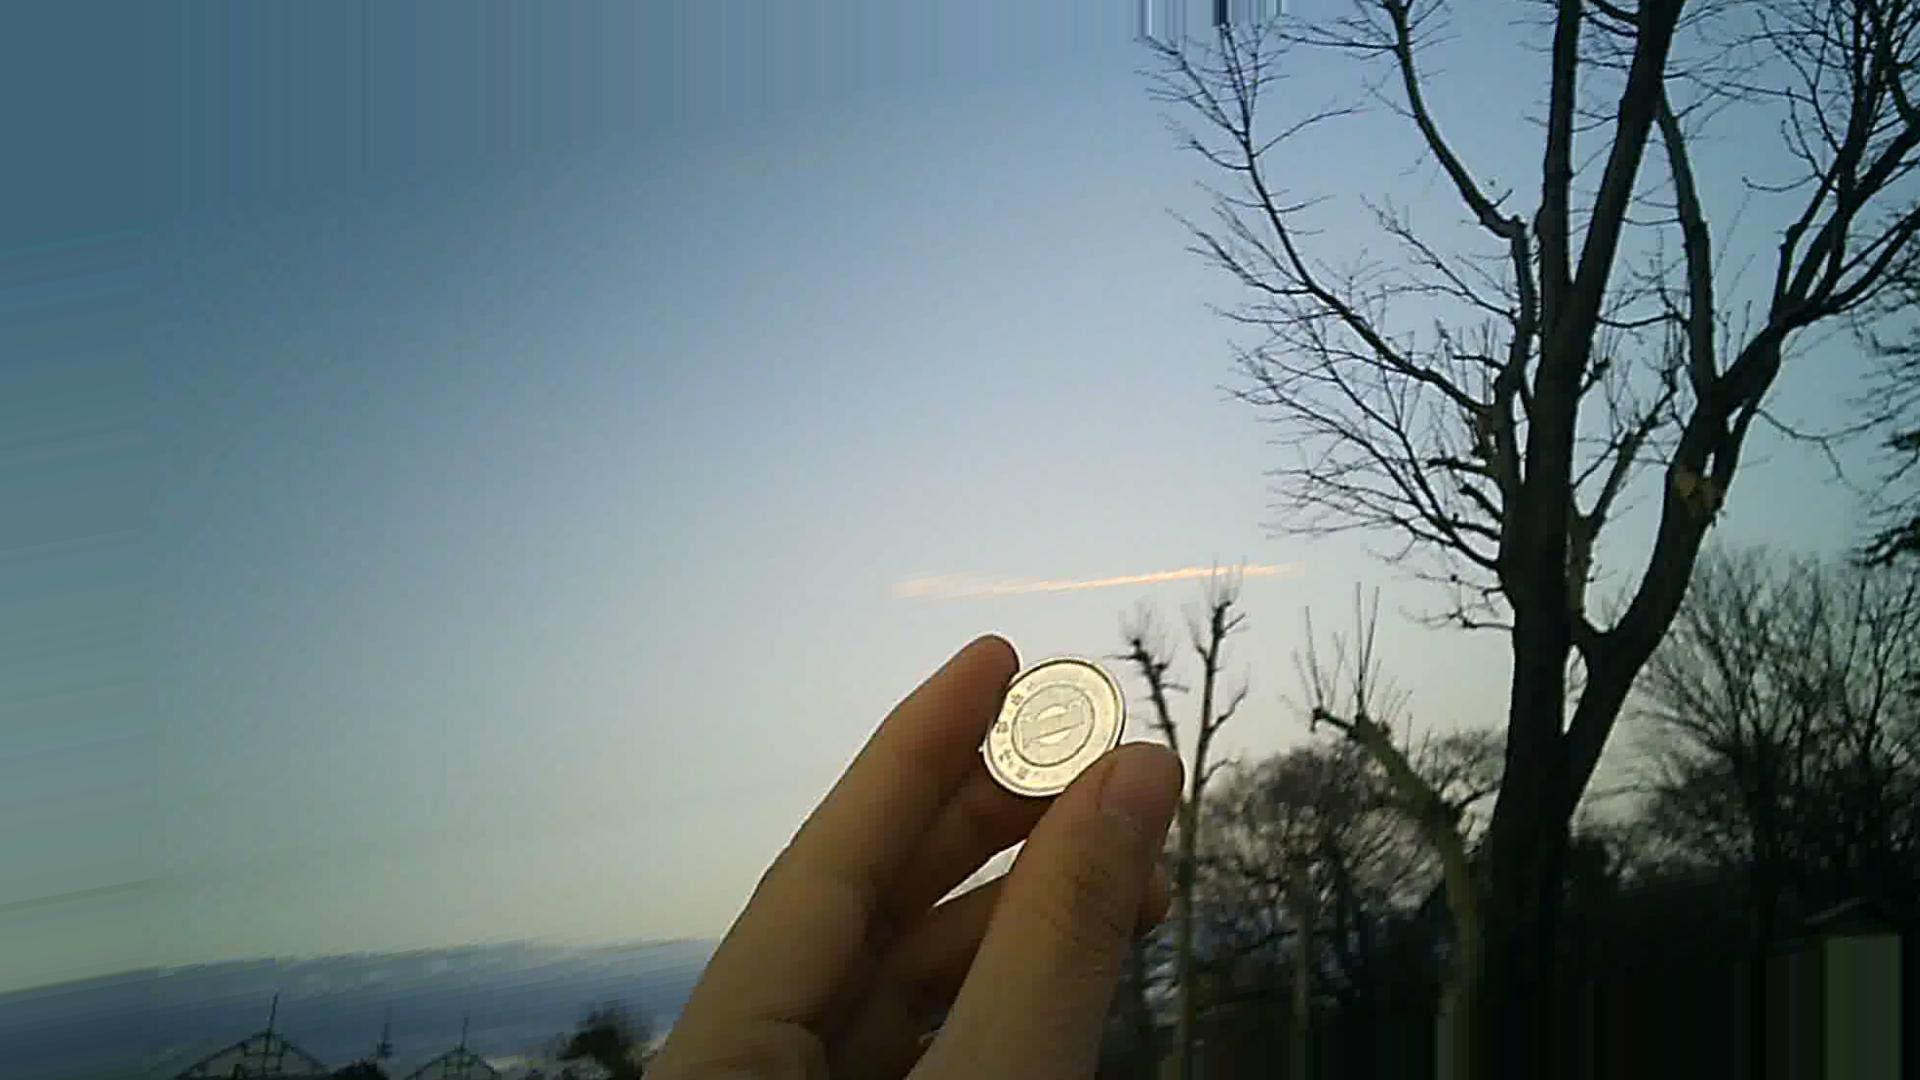1 Yen: (975, 655, 1125, 796)
